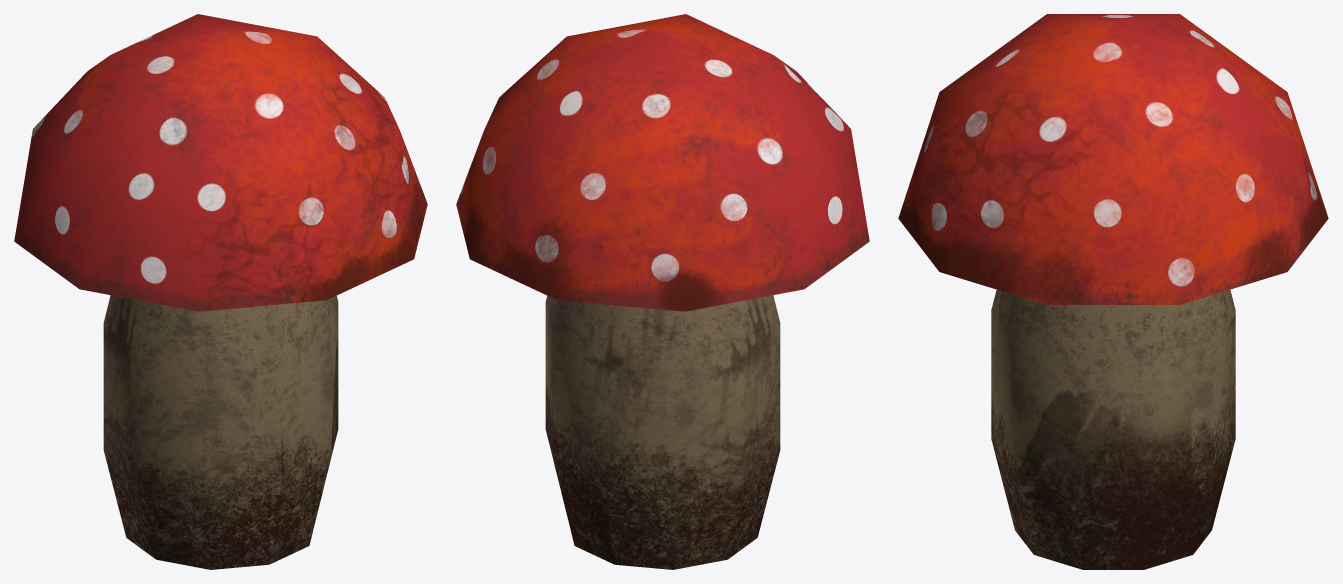
The model's file is mushroom.fbx.
3 views of the same model, side by side, from view 1: azimuth 30°, elevation 25°; view 2: azimuth 150°, elevation 25°; view 3: azimuth 270°, elevation 25° (orthographic).
Visible parts, largest first — view 1: mushroom; view 2: mushroom; view 3: mushroom.
Part boxes in pixels (x1,y1,x2,y2): mushroom: (14, 14, 427, 569); mushroom: (456, 14, 869, 569); mushroom: (898, 14, 1328, 569).
Bounding box in the file's own units: 47.78 × 65.29 × 50.24.
Materials: 1 (1 with a texture image).
